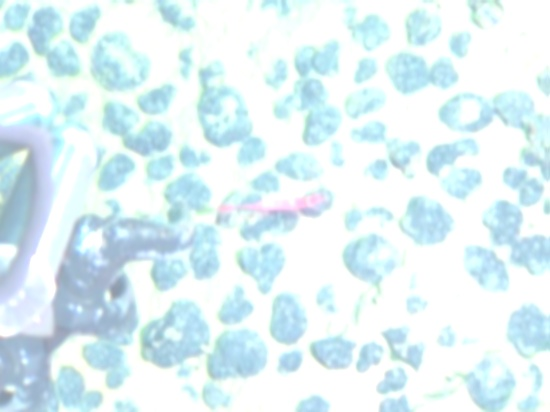halobolite: (337, 221, 410, 295), (458, 345, 524, 407), (425, 138, 487, 198), (166, 305, 223, 364), (461, 240, 517, 296), (397, 189, 456, 242), (40, 355, 92, 412), (258, 295, 310, 348), (203, 265, 259, 312), (90, 47, 148, 92), (381, 320, 428, 373), (380, 130, 429, 179), (202, 95, 250, 142), (323, 121, 373, 166), (313, 324, 357, 375), (52, 9, 96, 55), (441, 94, 489, 134), (1, 28, 41, 75), (229, 180, 266, 227), (179, 172, 228, 206), (348, 15, 392, 52), (384, 60, 433, 92), (132, 184, 178, 218), (283, 35, 326, 71), (146, 249, 181, 293), (117, 312, 163, 345), (96, 1, 134, 38), (156, 212, 193, 249), (329, 92, 373, 121), (111, 162, 154, 190), (252, 146, 295, 174), (131, 122, 169, 153), (96, 103, 134, 132), (306, 105, 335, 142), (137, 85, 177, 111), (140, 1, 179, 26), (178, 246, 210, 276), (197, 138, 233, 164), (447, 29, 478, 58), (1, 1, 34, 27), (199, 206, 225, 239), (300, 386, 332, 412), (89, 346, 115, 371), (1, 68, 11, 93)
